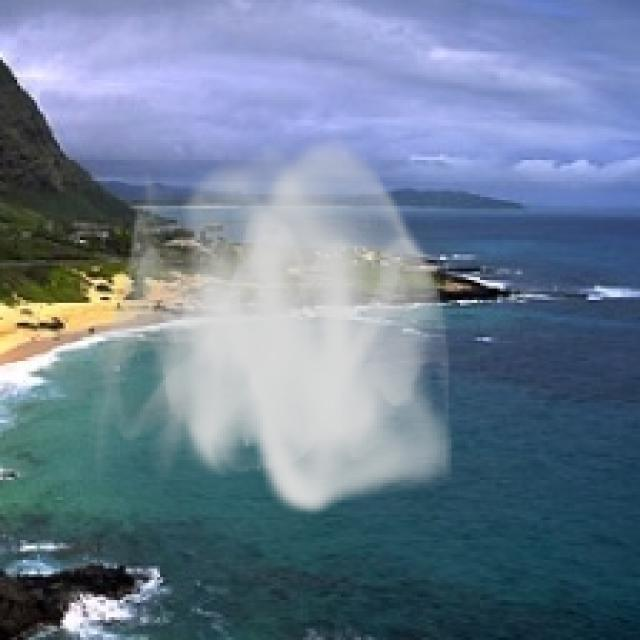Smoke: (86, 128, 463, 518)
